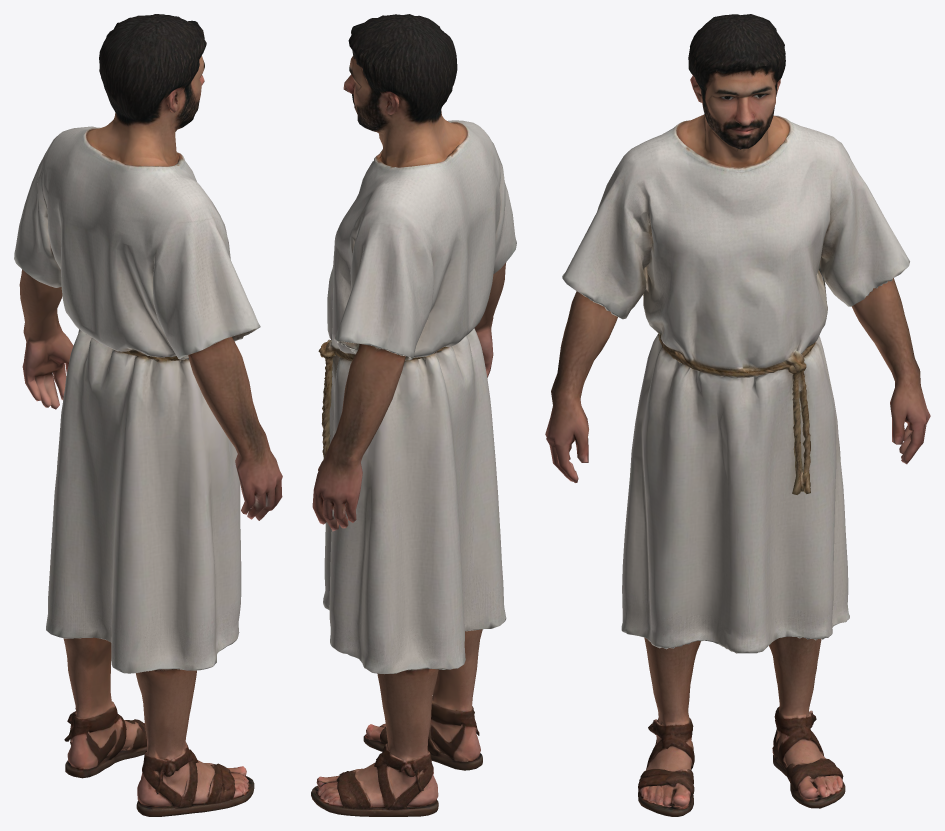
The model's file is man.glb.
The picture shows the model from 3 angles, left to right: view 1: azimuth 30°, elevation 25°; view 2: azimuth 150°, elevation 25°; view 3: azimuth 270°, elevation 25°; orthographic projection.
Parts seen in each view (by area): view 1: tripo_node_c165badf-9fce-4349-b5bf-249ea9434e00; view 2: tripo_node_c165badf-9fce-4349-b5bf-249ea9434e00; view 3: tripo_node_c165badf-9fce-4349-b5bf-249ea9434e00.
Part boxes in pixels (bbox=[...]): tripo_node_c165badf-9fce-4349-b5bf-249ea9434e00: bbox=[14, 14, 282, 816]; tripo_node_c165badf-9fce-4349-b5bf-249ea9434e00: bbox=[311, 14, 516, 816]; tripo_node_c165badf-9fce-4349-b5bf-249ea9434e00: bbox=[545, 14, 930, 816].
Bounding box in the file's own units: 0.2084 × 0.9807 × 0.4469.
Materials: 1 (1 with a texture image).
